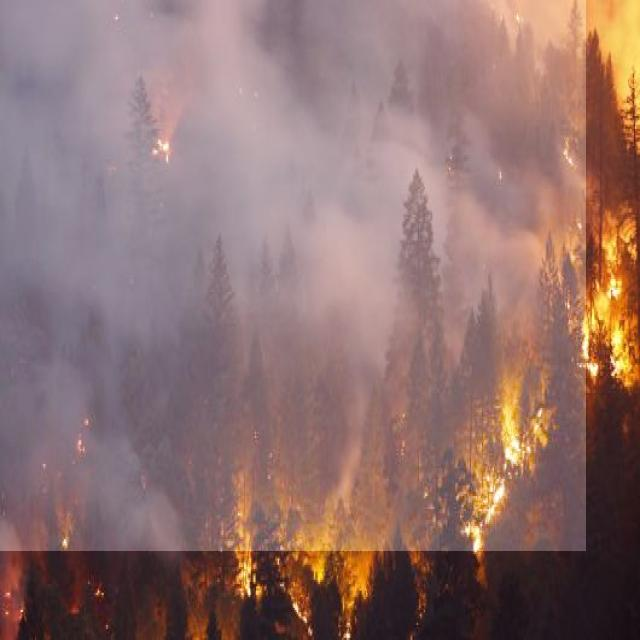Fire: (0, 223, 640, 640), (142, 114, 176, 170)
Smoke: (0, 0, 586, 551)
